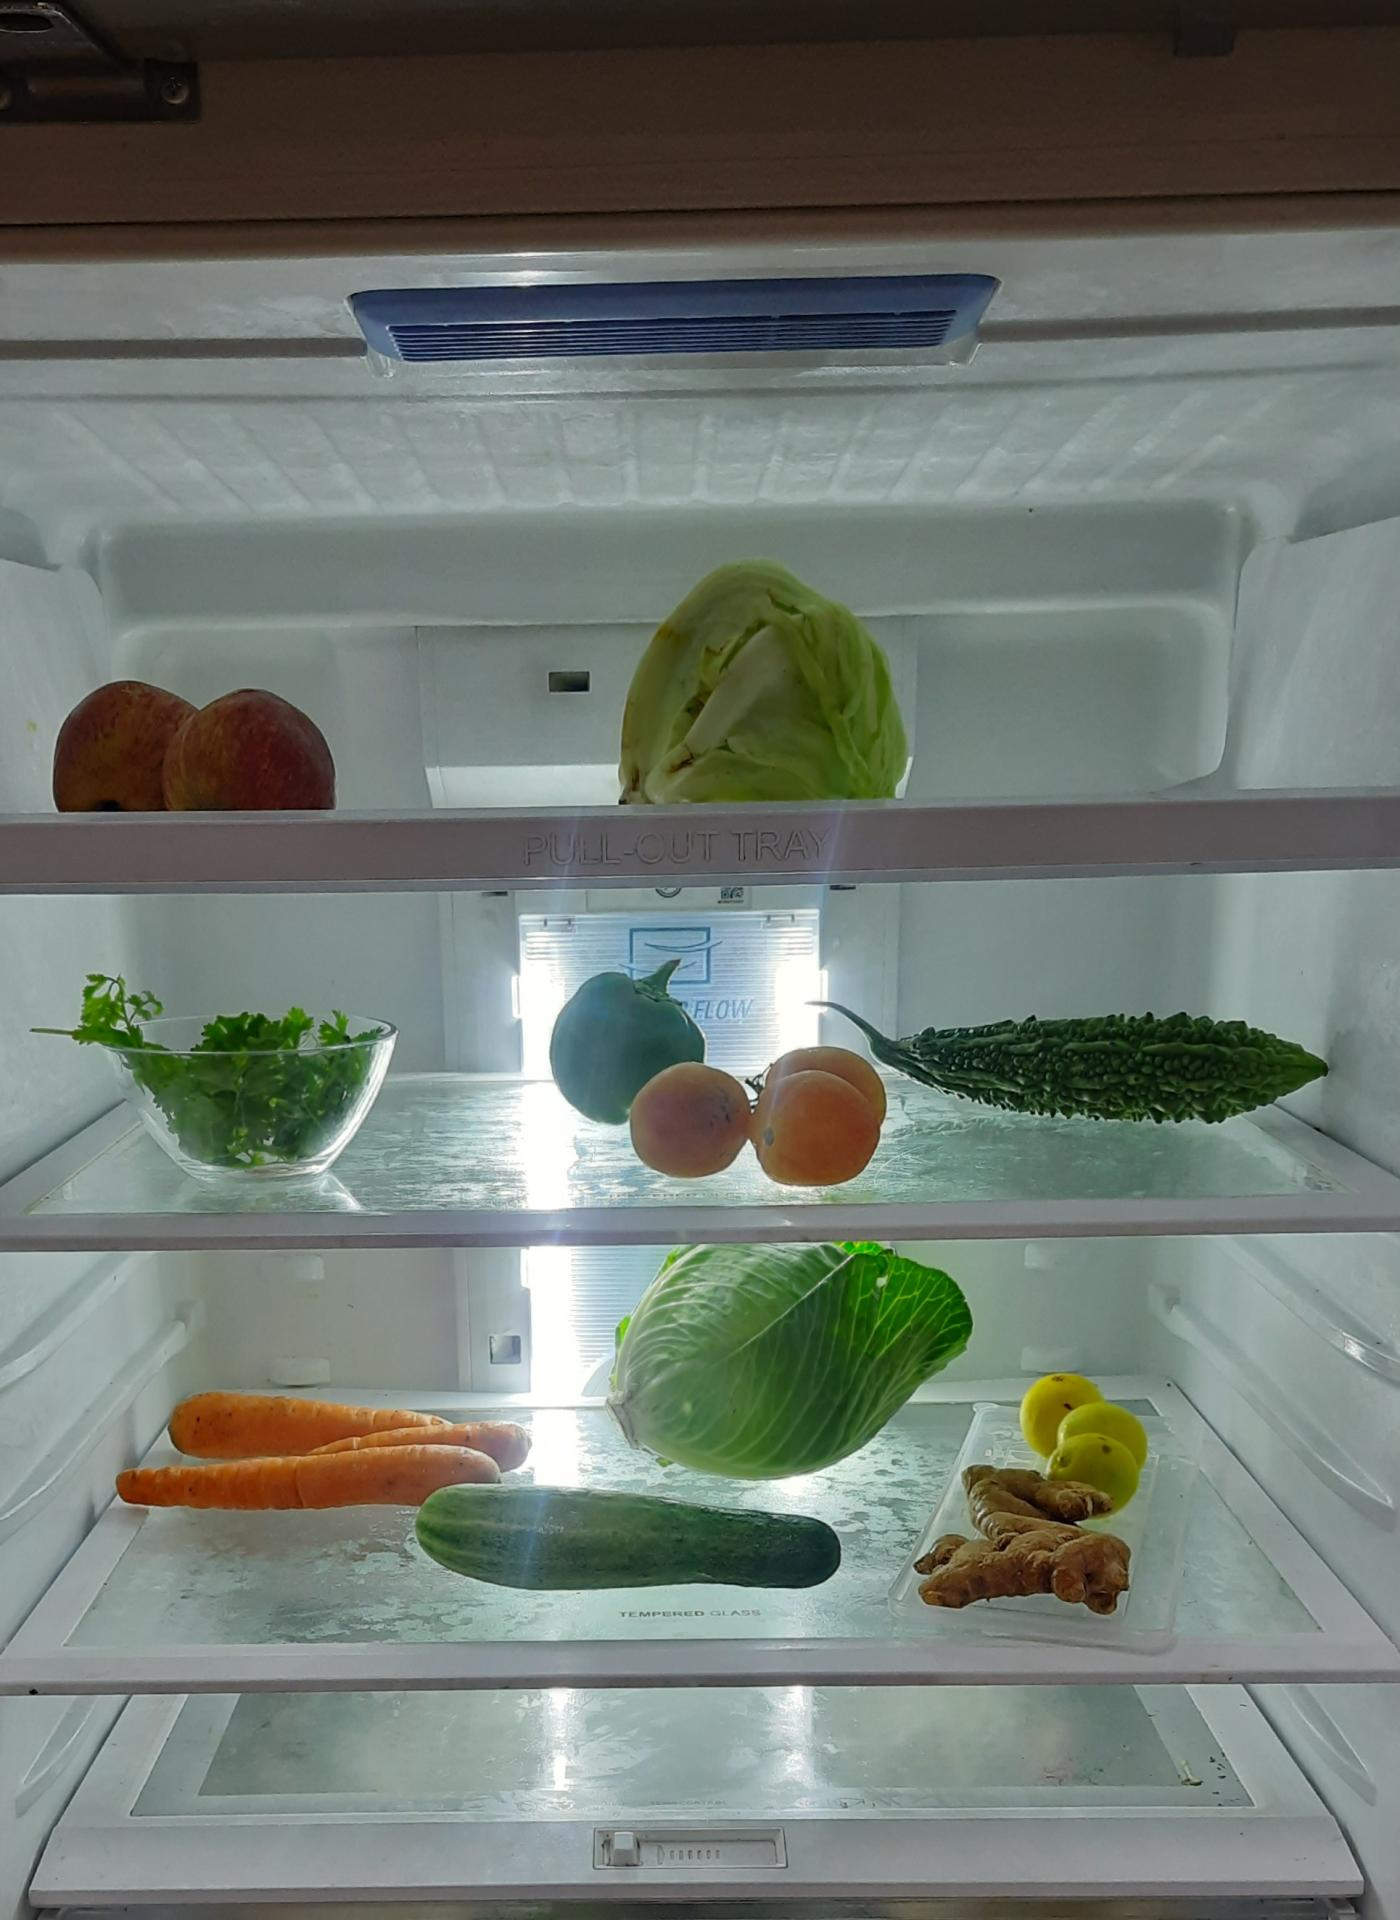apple: (52, 677, 346, 817)
bitter gourd: (832, 1002, 1349, 1128)
cabbage: (617, 1245, 975, 1480)
capsicum: (549, 950, 708, 1122)
carrots: (128, 1388, 517, 1512)
coriander: (76, 976, 392, 1173)
cucumber: (409, 1477, 857, 1588)
ginger: (917, 1467, 1142, 1622)
lemon: (1012, 1368, 1157, 1476)
lettuce: (619, 563, 914, 805)
tomato: (748, 1042, 884, 1187), (617, 1051, 748, 1170)
